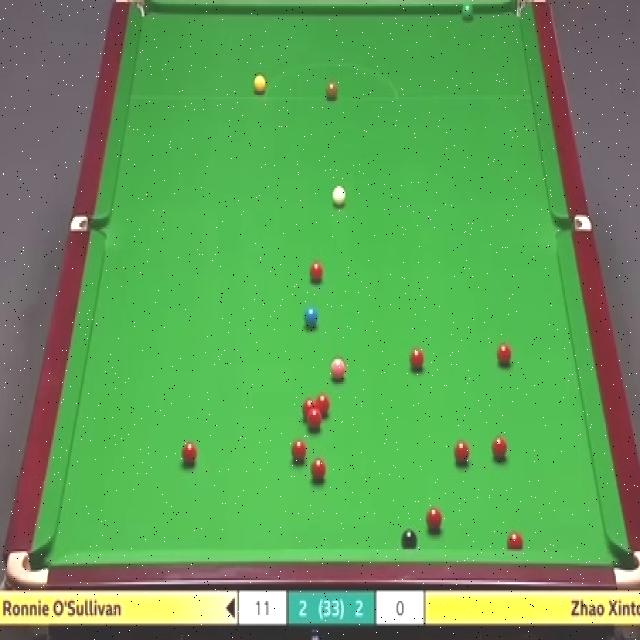black-ball: (401, 527, 418, 550)
blue-ball: (302, 306, 320, 328)
brown-ball: (326, 78, 338, 99)
green-ball: (460, 0, 474, 19)
pink-ball: (330, 358, 347, 384)
red-ball: (177, 442, 200, 467), (309, 260, 328, 288), (310, 453, 328, 482), (408, 345, 426, 373), (426, 508, 444, 535), (288, 441, 308, 464), (491, 434, 507, 461), (453, 438, 469, 464), (496, 343, 511, 368), (302, 398, 316, 424), (316, 394, 330, 418), (506, 530, 524, 548), (308, 412, 323, 432)
white-ball: (331, 183, 346, 207)
yellow-ball: (253, 76, 265, 94)
